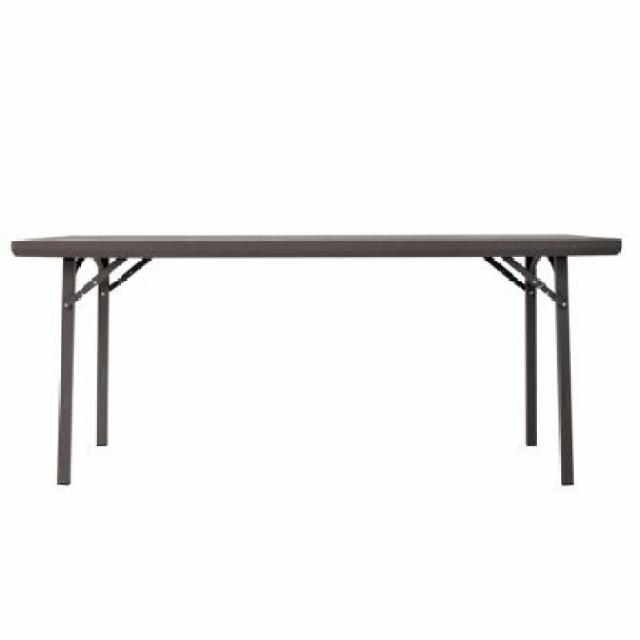table: (4, 228, 622, 495)
